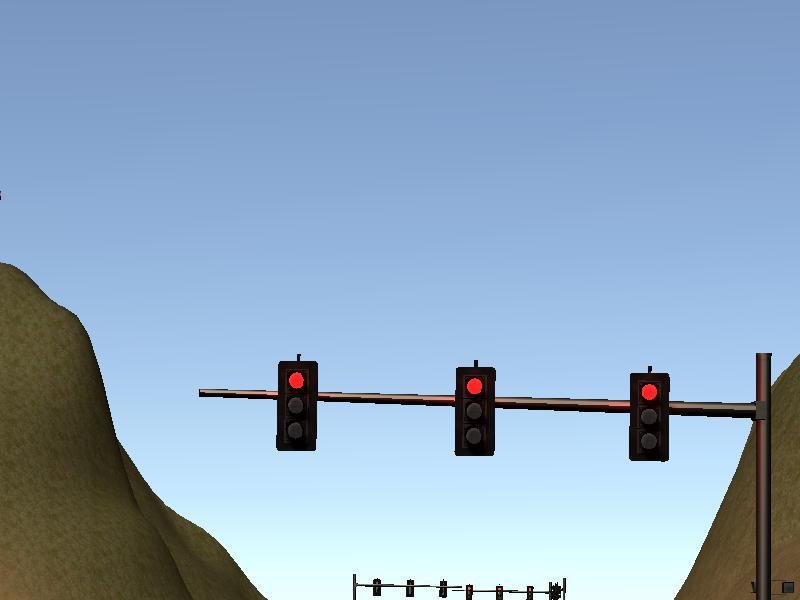Red: (629, 372, 666, 462), (457, 367, 495, 454), (279, 362, 316, 450)
